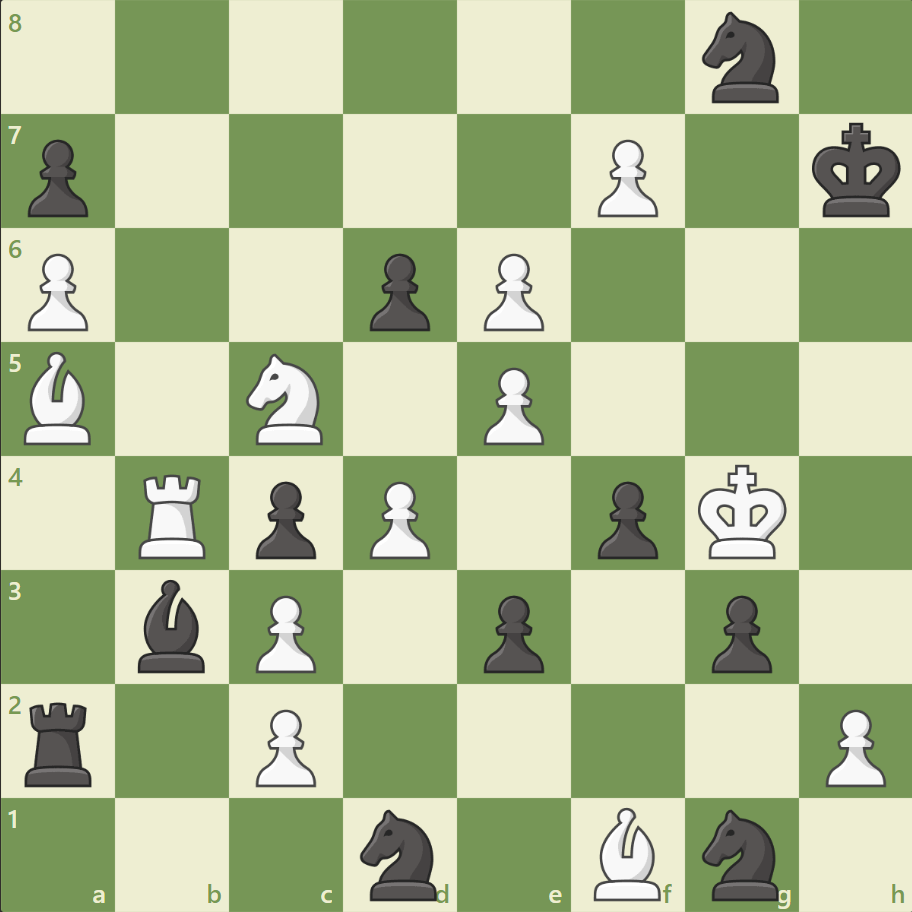B: (585, 801, 669, 904), (17, 347, 101, 449)
K: (692, 458, 792, 566)
N: (238, 348, 335, 450)
P: (20, 246, 95, 337), (474, 246, 549, 337), (474, 359, 549, 450), (247, 586, 322, 677), (247, 700, 322, 791), (588, 132, 662, 223), (361, 473, 435, 564), (815, 700, 889, 791)
R: (133, 466, 215, 563)
b: (131, 574, 215, 676)
k: (806, 117, 906, 225)
n: (351, 802, 449, 904), (692, 7, 789, 110), (692, 802, 789, 904)
p: (20, 132, 95, 223), (247, 473, 322, 564), (474, 586, 549, 677), (701, 586, 776, 677), (361, 246, 435, 337), (588, 473, 662, 564)
r: (19, 693, 102, 790)
